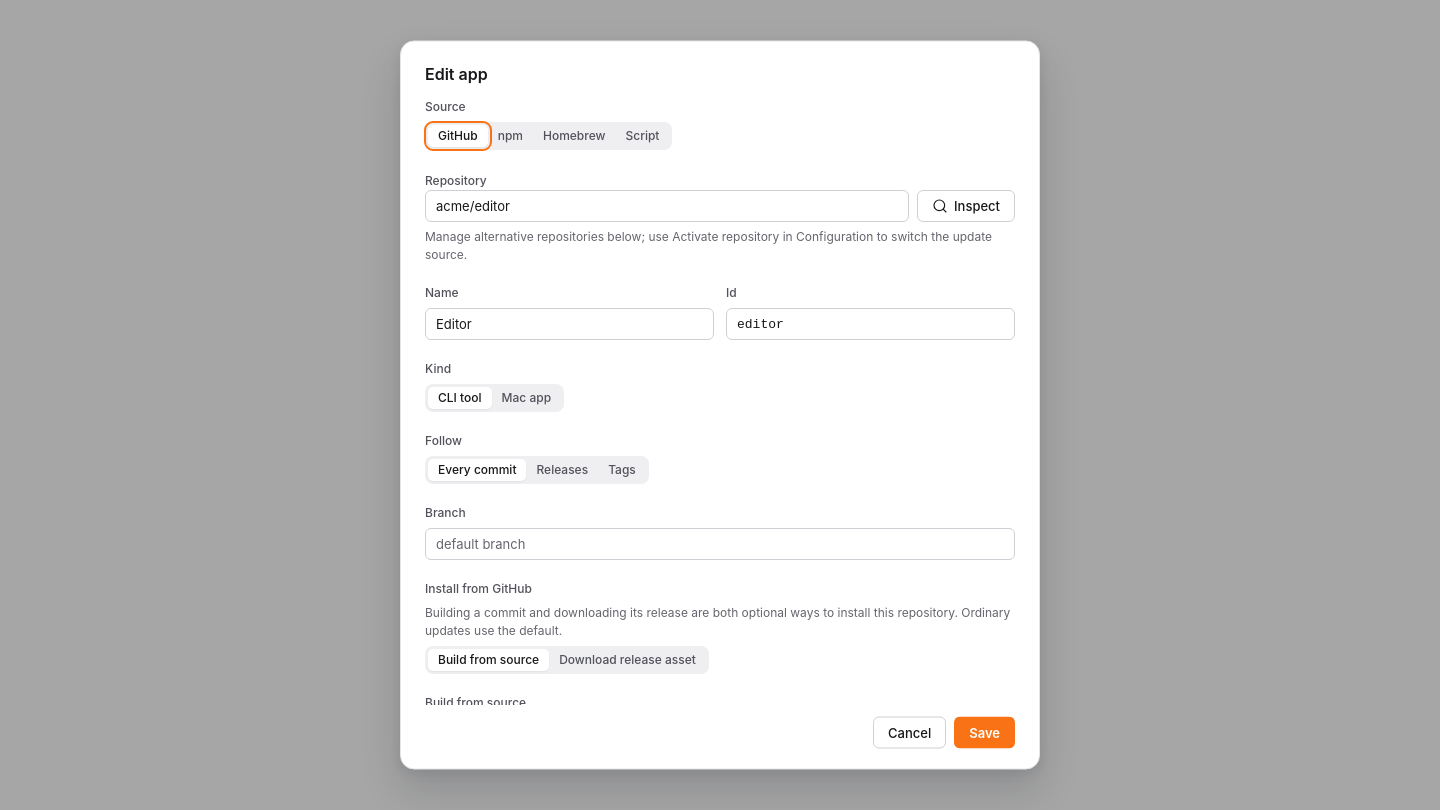
Test: never fetches matches while editing a github app
The width and height of the screenshot is (1440, 810).
Click the button "Inspect".
click(966, 206)  # box x1=917 y1=190 x2=1015 y2=222
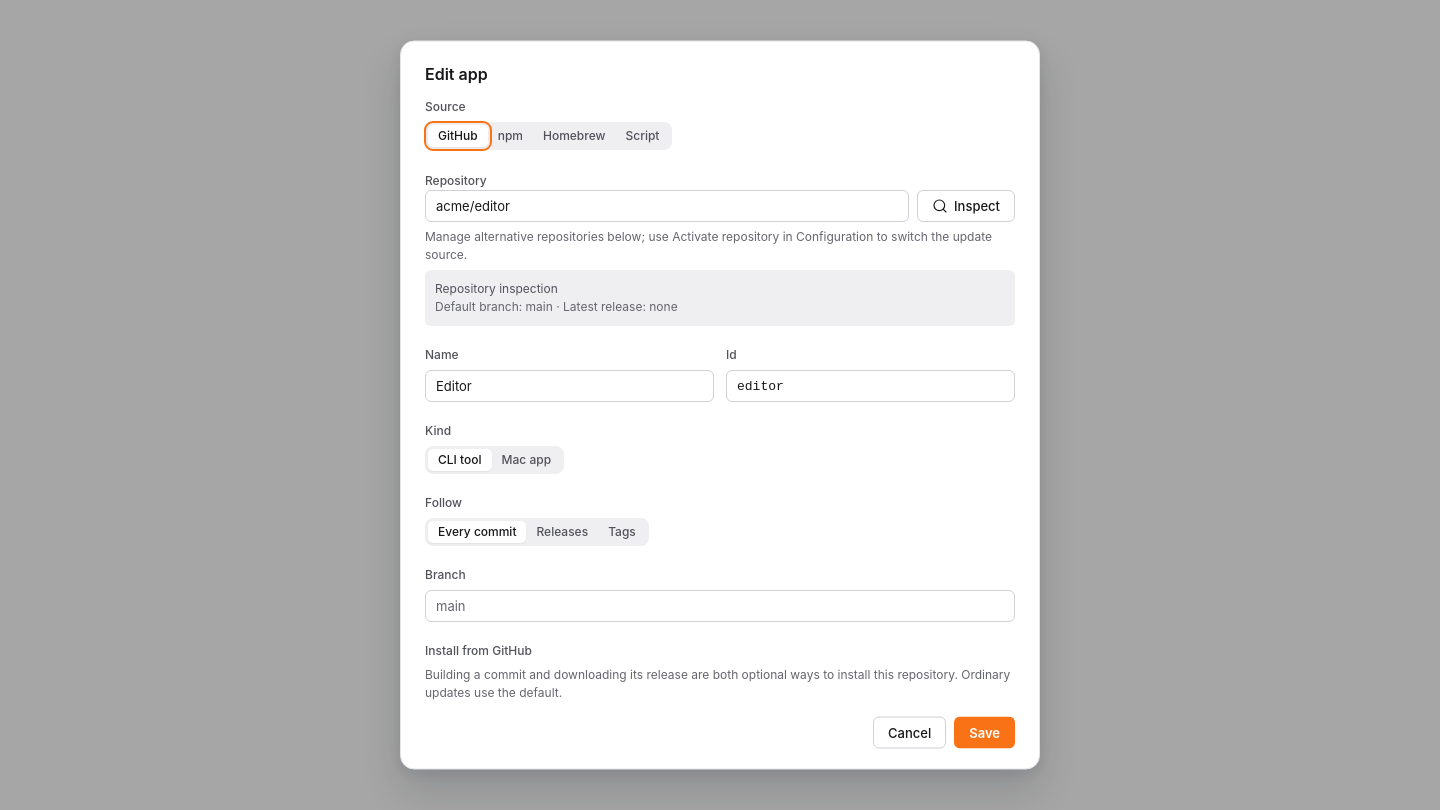
Expected: the text "Repository inspection" is shown, x1=435 y1=280 x2=558 y2=296
